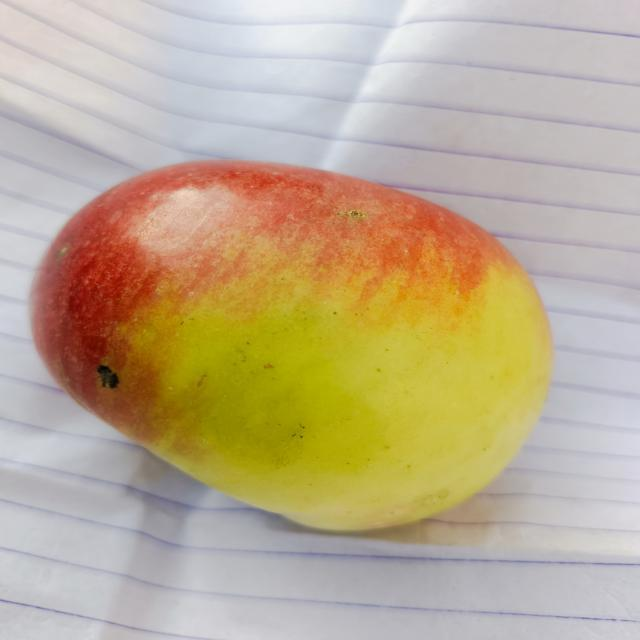Rotten: (33, 165, 567, 558)
